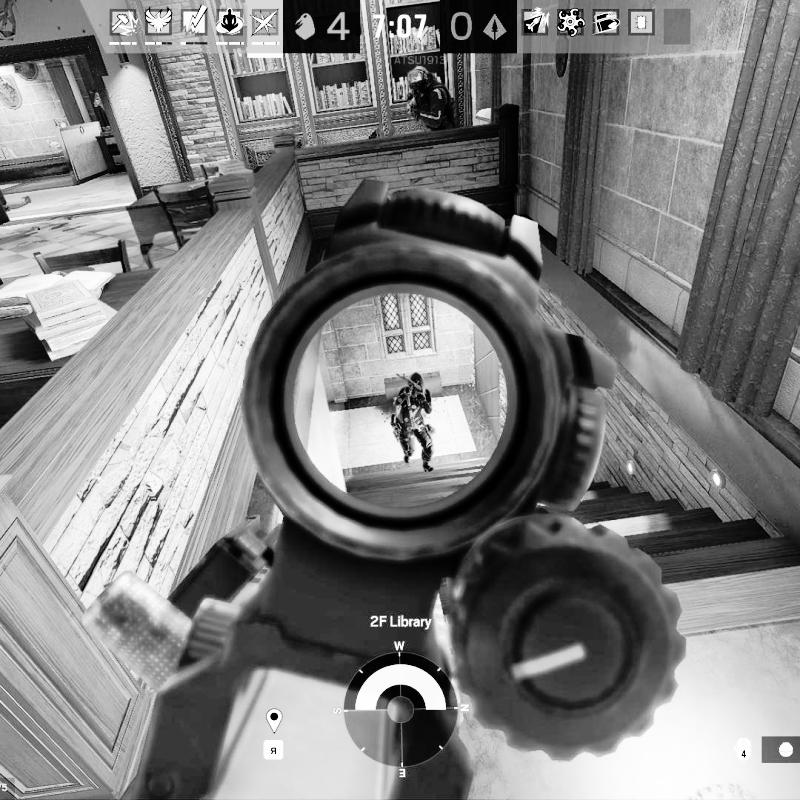Character: (388, 370, 440, 473), (399, 64, 454, 132)
Friend_label: (392, 30, 457, 66)
Head: (408, 66, 431, 89), (410, 375, 424, 392)
